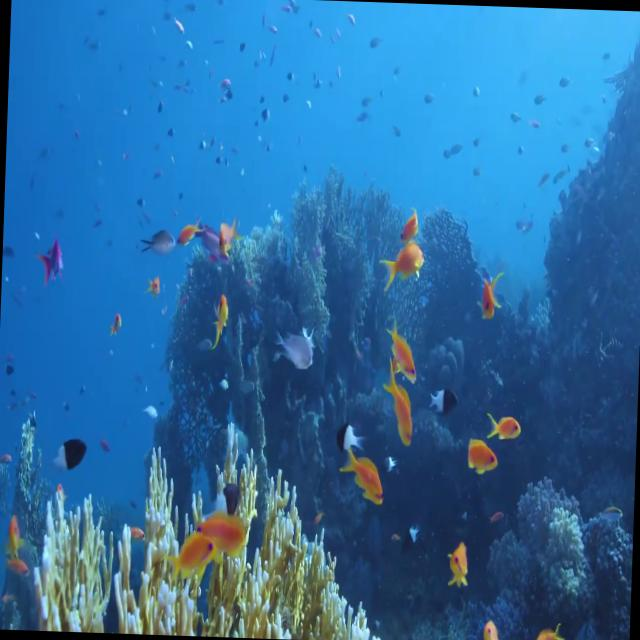fish: (378, 373, 418, 452), (338, 442, 382, 507), (196, 508, 248, 554), (170, 528, 212, 582), (381, 246, 426, 290), (464, 433, 504, 477), (489, 410, 519, 446)
